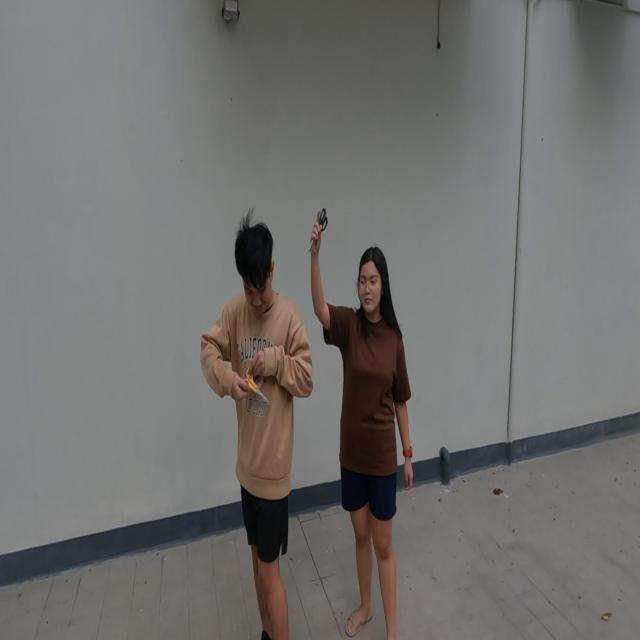scissor: (243, 366, 270, 408), (306, 206, 328, 256)
